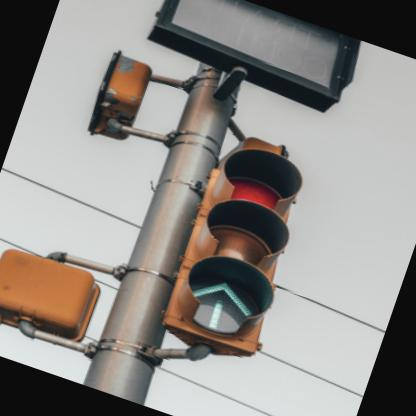trafficlight: (152, 124, 327, 372)
